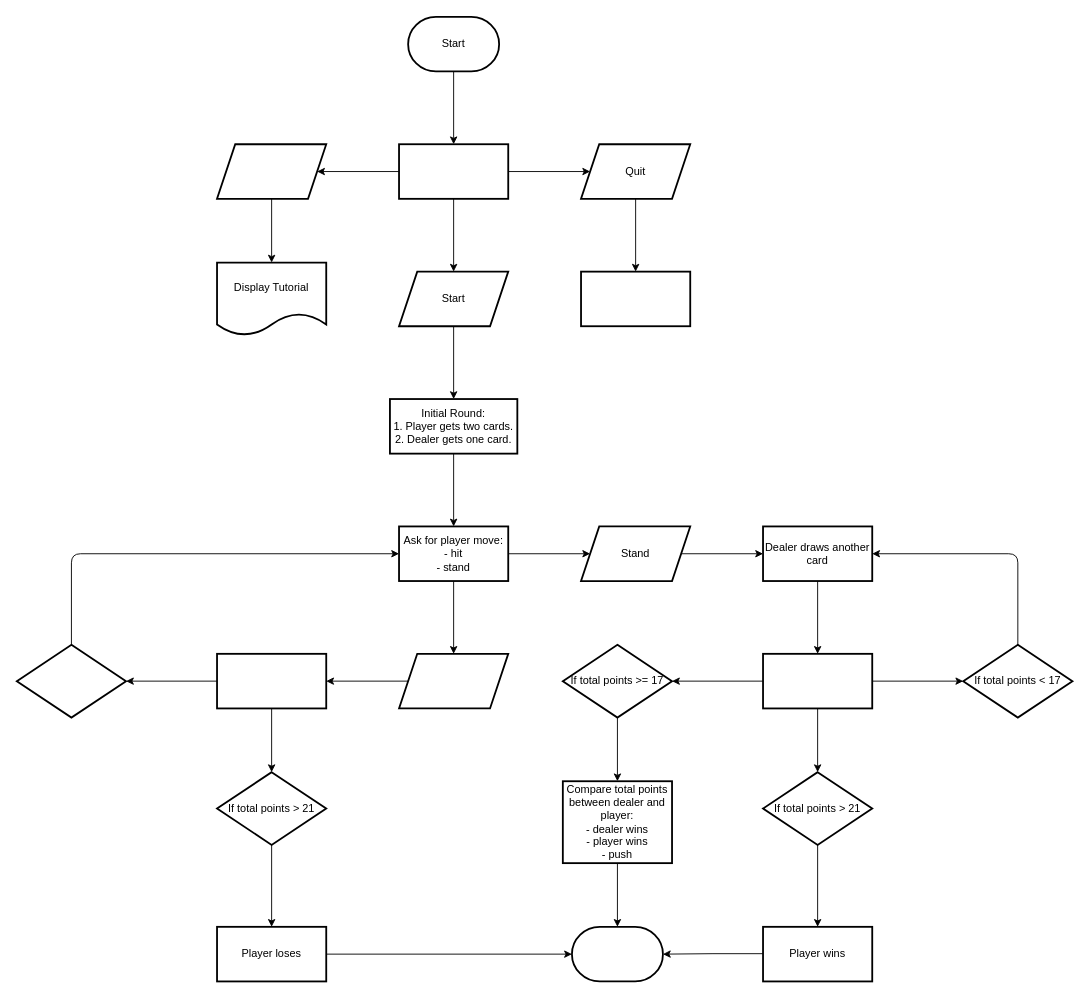
Image size: 1088x997. Some labels were removed from this diagram. The shapes that lost their labels are listed below. From the top down, each one's centre as x and y in pixels, then its label:
(271,171): Tutorial
(453,171): Display Main Menu: - Start - Tutorial - Quit
(635,298): App Terminated
(70,680): If total points < 21
(271,680): Player draws another card
(453,680): Hit
(817,680): Check dealer's total points
(617,953): End
